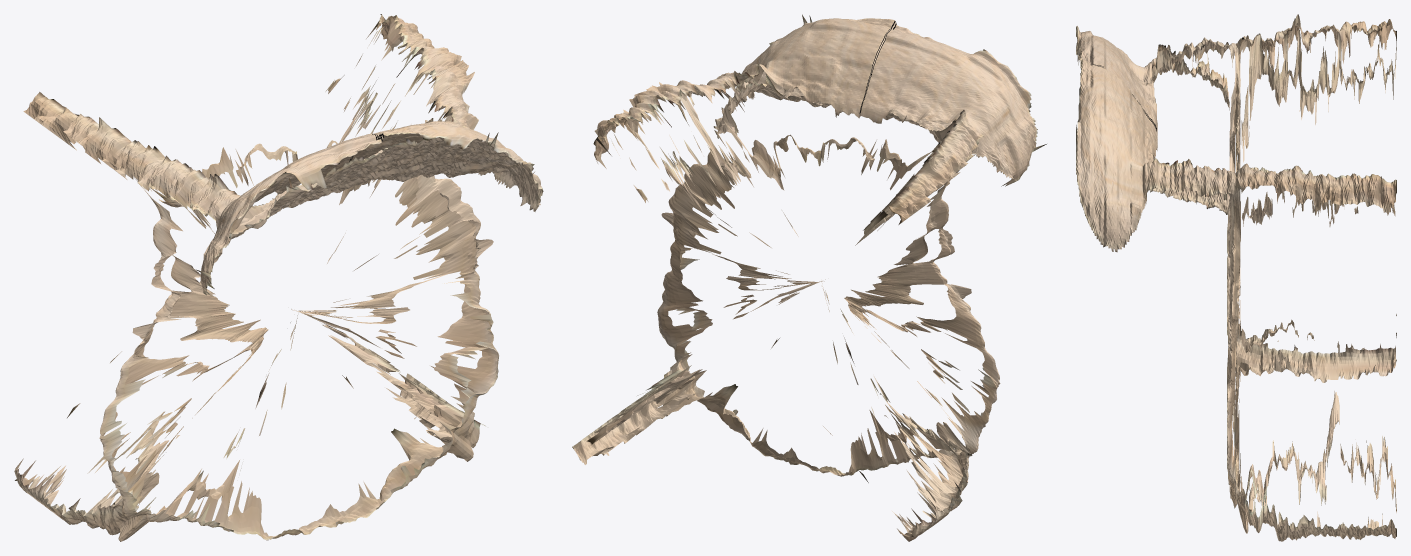
The picture shows the model from 3 angles, left to right: view 1: azimuth 30°, elevation 25°; view 2: azimuth 150°, elevation 25°; view 3: azimuth 270°, elevation 25°; orthographic projection. The views are drawn at different scales.
Visible parts, largest first — view 1: geometry_0; view 2: geometry_0; view 3: geometry_0.
Part boxes in pixels (bbox=[...]): geometry_0: bbox=[14, 14, 543, 541]; geometry_0: bbox=[572, 14, 1046, 541]; geometry_0: bbox=[1076, 14, 1396, 541].
Size of the model in its own units: 1.53 by 1.67 by 1.15.
1 material, 1 textured.
